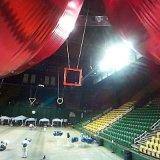Orange_Square_GShape: (64, 68, 82, 86)
Yellow_Circle_GShape: (57, 98, 63, 104)
Yellow_Triangle_Gshape: (29, 98, 36, 104)
